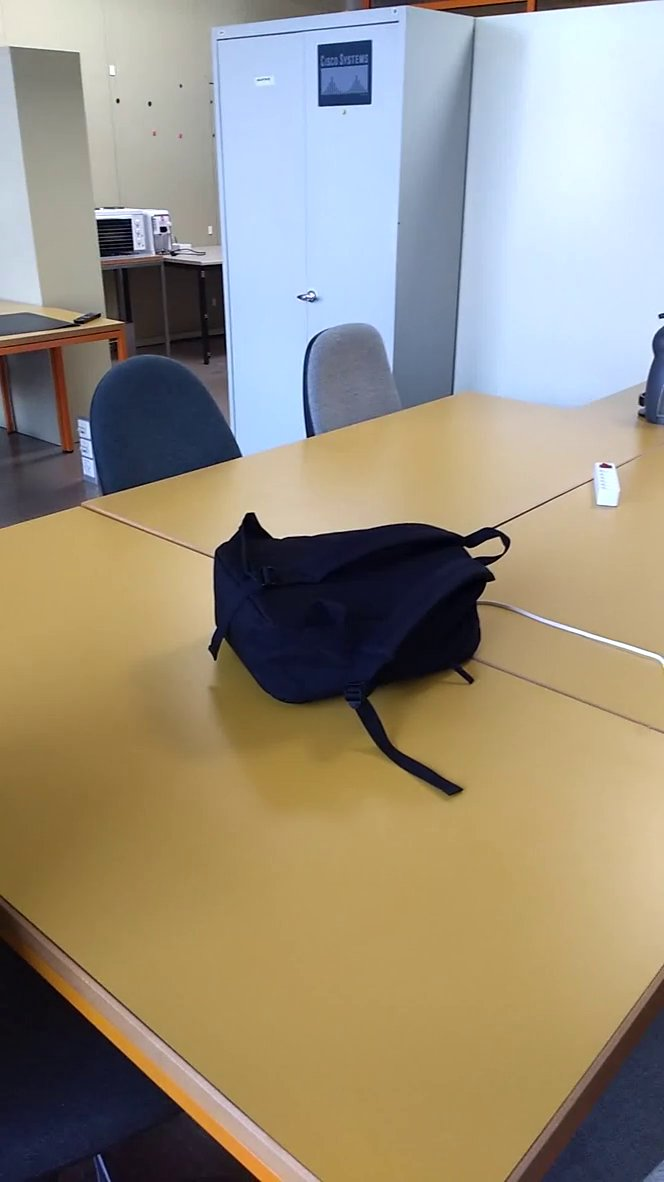bag: (189, 495, 518, 807)
chair: (82, 342, 252, 500), (287, 314, 420, 451)
